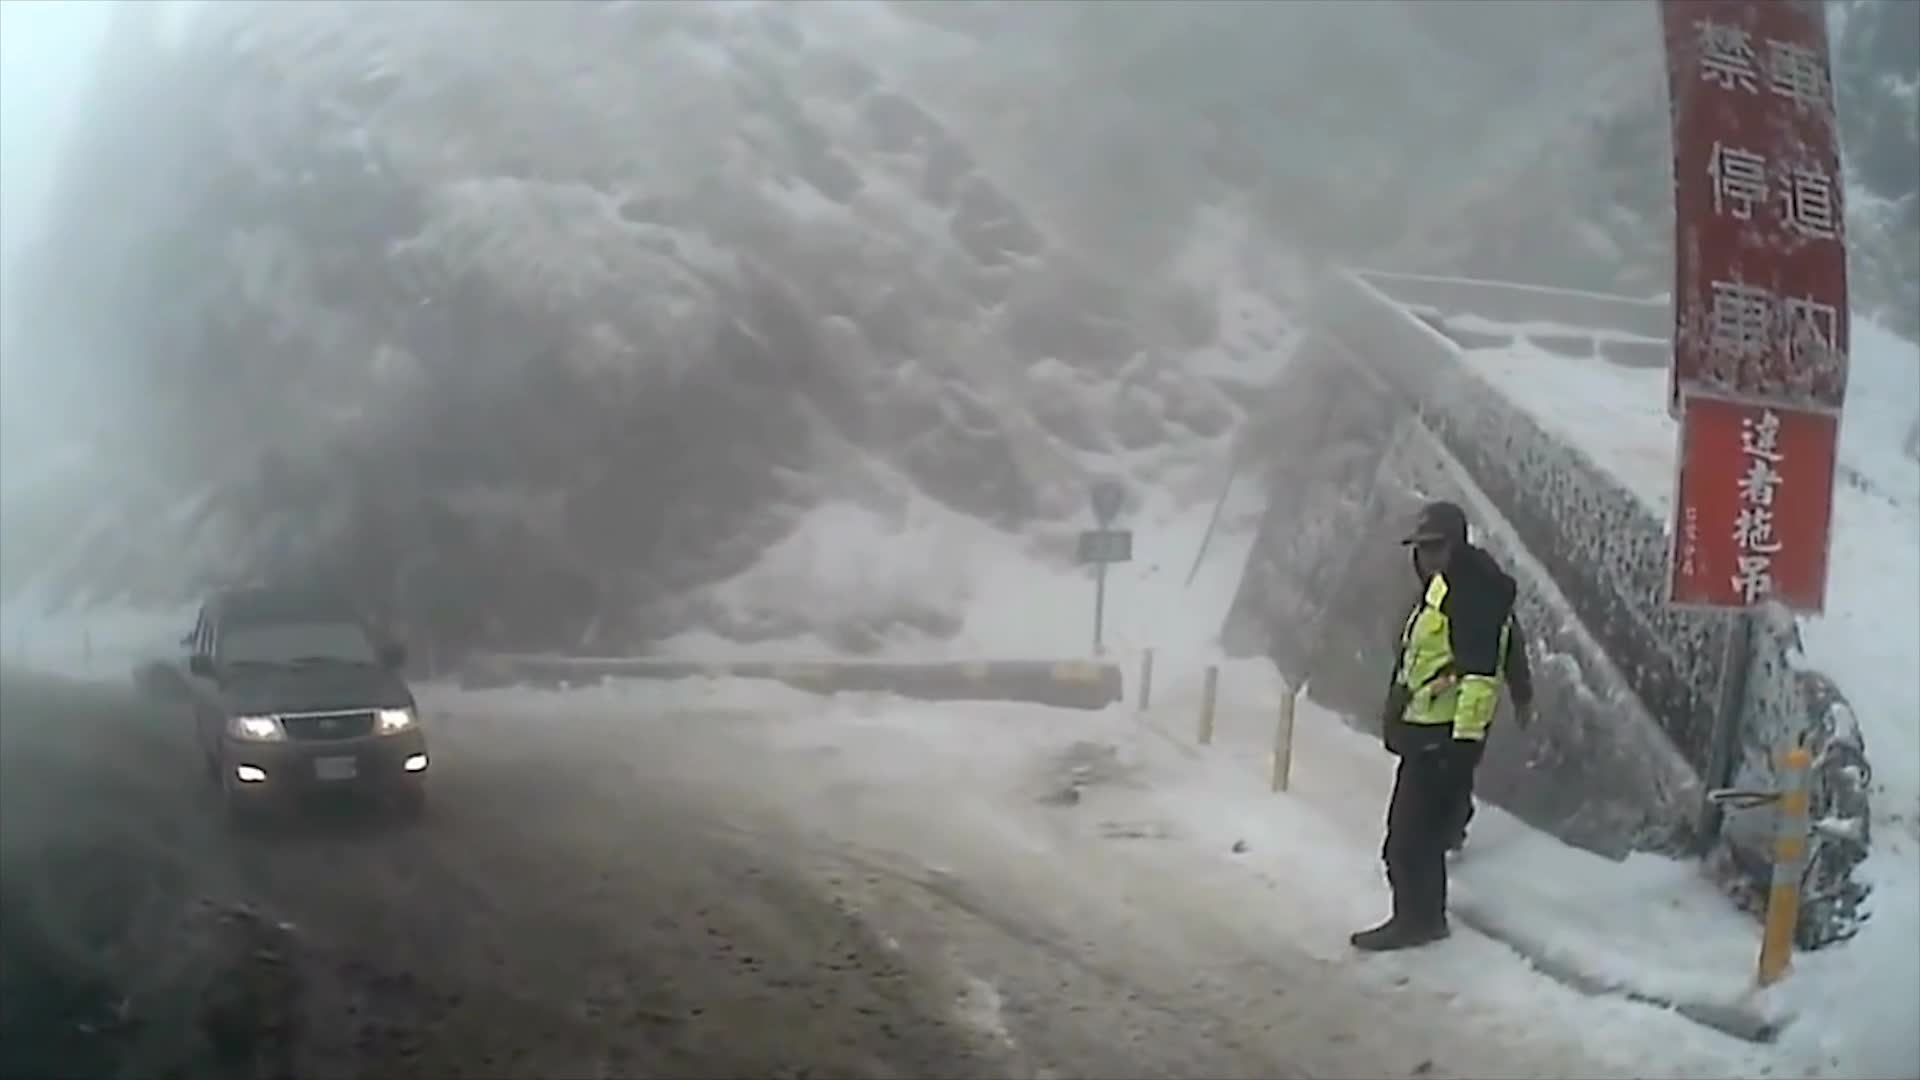pedestrian: (1362, 496, 1534, 954)
vehicle: (186, 586, 430, 832)
